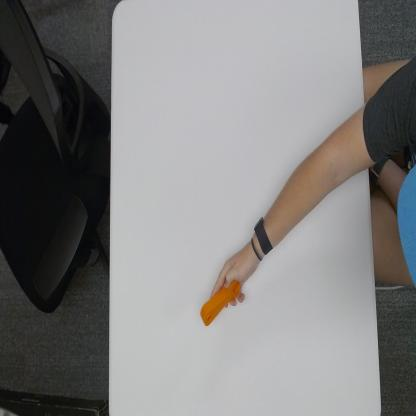Arm: (273, 95, 369, 248)
Hand: (213, 241, 255, 295)
Screwdriver: (200, 275, 244, 329)
